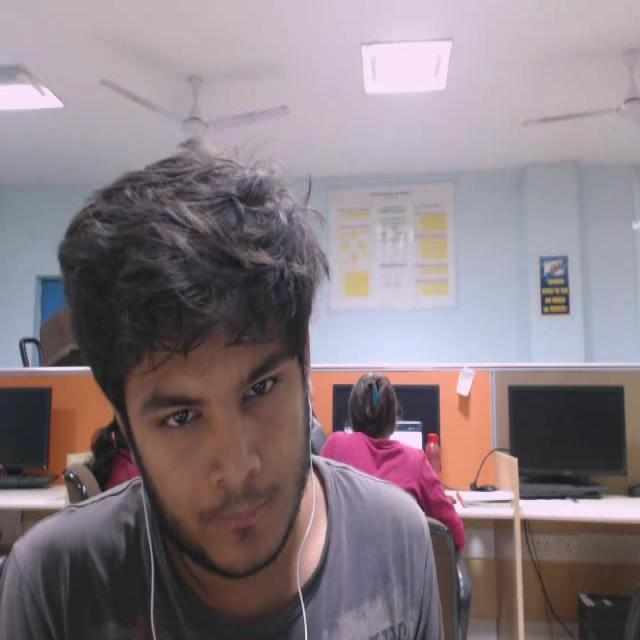Bored: (39, 131, 333, 593)
